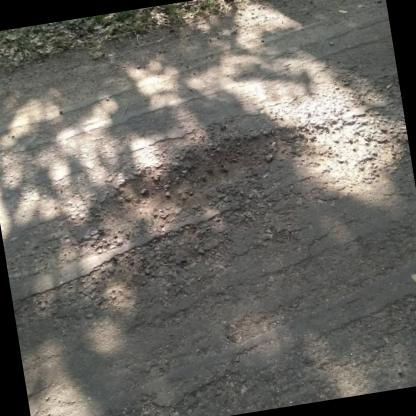pothole: (81, 117, 332, 244)
